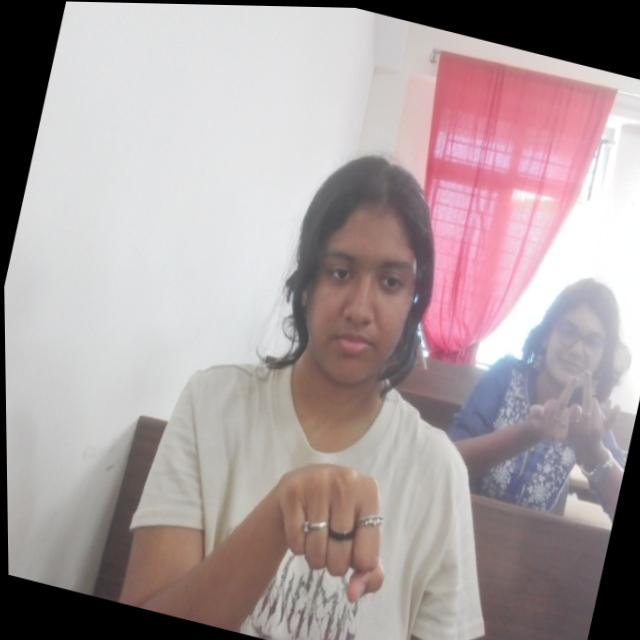yes: (254, 444, 407, 607)
